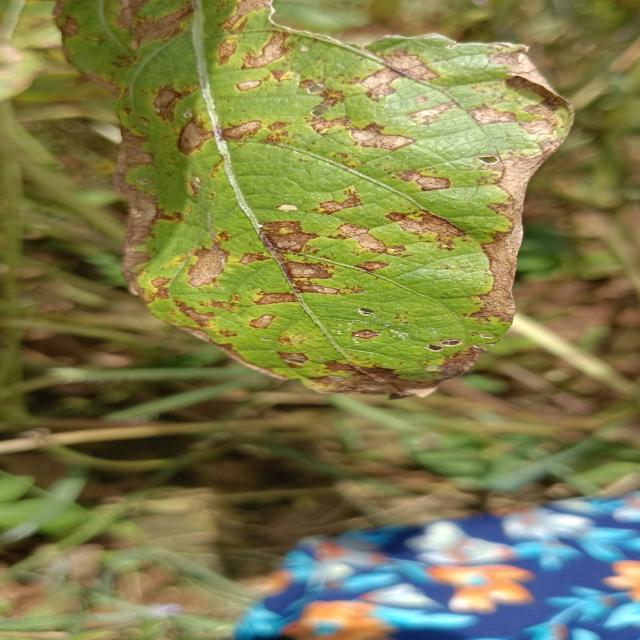Black gram_leaf spot: (35, 0, 581, 409)
